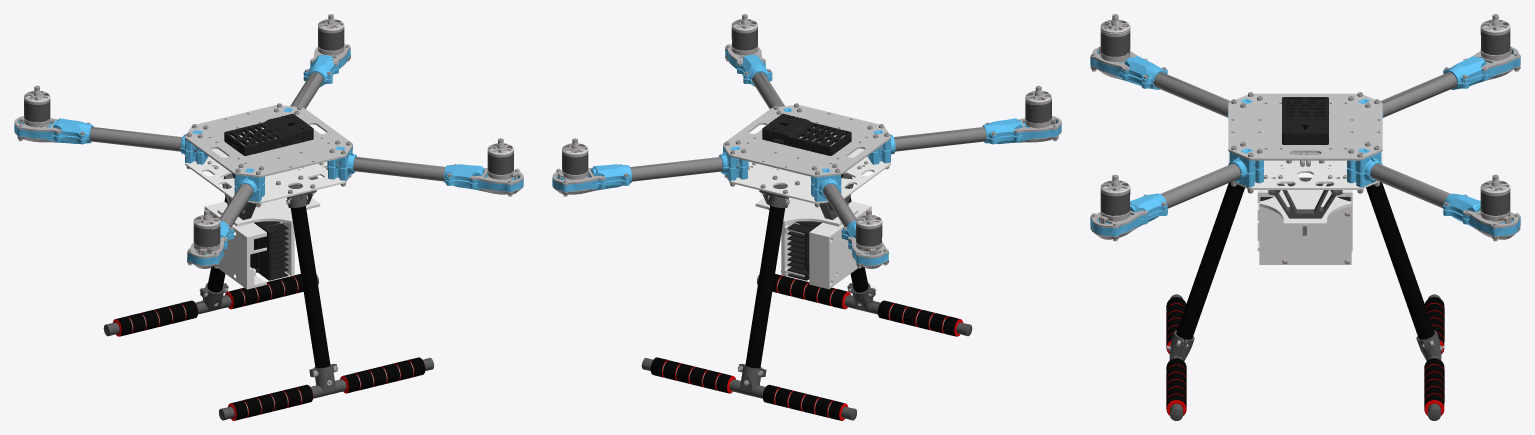
File: uav_frame_x500_cpu.dae
The picture shows the model from 3 angles, left to right: view 1: azimuth 30°, elevation 25°; view 2: azimuth 150°, elevation 25°; view 3: azimuth 270°, elevation 25°; orthographic projection. The views are drawn at different scales.
Parts seen in each view (by area): view 1: x500_frame; view 2: x500_frame; view 3: x500_frame.
Part boxes in pixels (x1=…): x500_frame: x1=14, y1=14, x2=523, y2=420; x500_frame: x1=552, y1=14, x2=1061, y2=420; x500_frame: x1=1090, y1=14, x2=1520, y2=420.
Bounding box in the file's own units: 0.4005 × 0.4005 × 0.2789.
